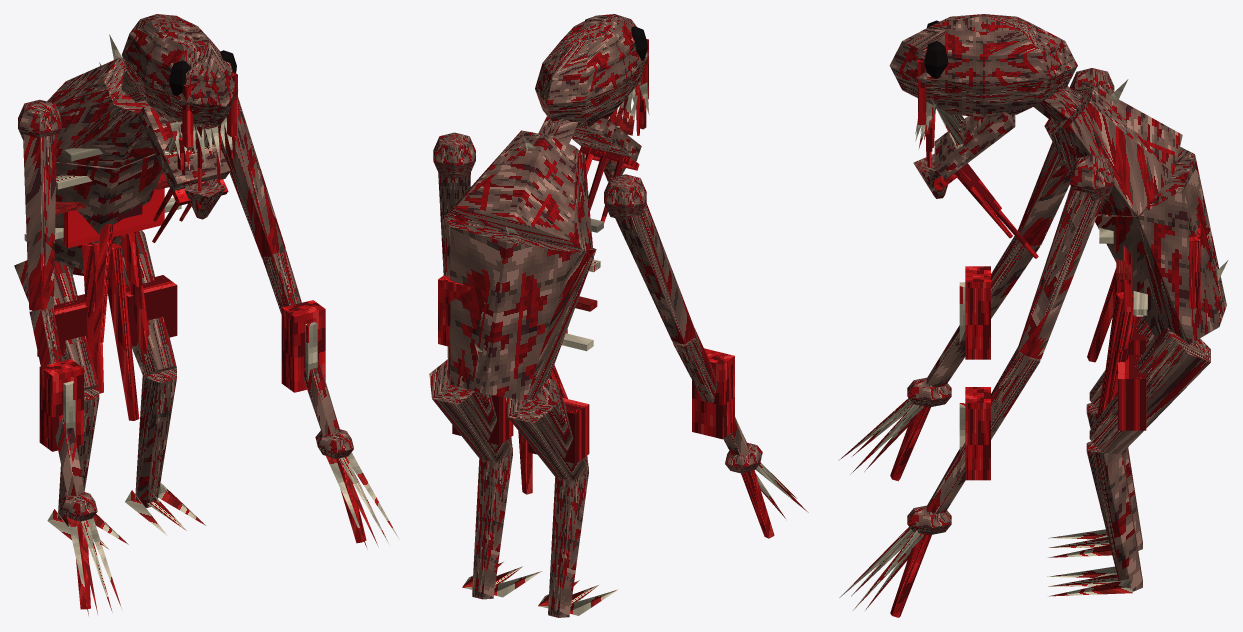
File: criatura.glb
The picture shows the model from 3 angles, left to right: view 1: azimuth 30°, elevation 25°; view 2: azimuth 150°, elevation 25°; view 3: azimuth 270°, elevation 25°; orthographic projection. The views are drawn at different scales.
Visible parts, largest first — view 1: Torso, Craneo, Tripas, BrazoIzq, PantorrillaDer, BrazoDer, MandibulaMalla, HeridaBrazoDer, HeridaBrazoIzq, AntebrazoDer, AntebrazoIzq, MusloDer (+22 smaller); view 2: Torso, Craneo, BrazoIzq, MusloIzq, PantorrillaIzq, PantorrillaDer, MusloDer, BrazoDer, HeridaBrazoIzq, AntebrazoIzq, MandibulaMalla, HeridaMusloIzq (+12 smaller); view 3: Torso, Craneo, BrazoDer, MusloDer, PantorrillaDer, BrazoIzq, MandibulaMalla, AntebrazoDer, Tripas, AntebrazoIzq, HeridaBrazoIzq, HeridaBrazoDer (+18 smaller).
Part boxes in pixels (x1=…): Torso: x1=47, y1=58, x2=162, y2=275; Craneo: x1=122, y1=14, x2=238, y2=130; Tripas: x1=82, y1=224, x2=149, y2=420; BrazoIzq: x1=18, y1=99, x2=61, y2=310; PantorrillaDer: x1=135, y1=368, x2=176, y2=507; BrazoDer: x1=221, y1=97, x2=285, y2=257; MandibulaMalla: x1=138, y1=105, x2=230, y2=219; HeridaBrazoDer: x1=281, y1=300, x2=325, y2=392; HeridaBrazoIzq: x1=39, y1=359, x2=83, y2=451; AntebrazoDer: x1=262, y1=249, x2=339, y2=434; AntebrazoIzq: x1=29, y1=307, x2=84, y2=496; MusloDer: x1=122, y1=230, x2=176, y2=376; Torso: x1=444, y1=130, x2=596, y2=400; Craneo: x1=535, y1=14, x2=648, y2=127; BrazoIzq: x1=604, y1=174, x2=695, y2=344; MusloIzq: x1=506, y1=378, x2=588, y2=481; PantorrillaIzq: x1=548, y1=467, x2=588, y2=617; PantorrillaDer: x1=472, y1=448, x2=512, y2=599; MusloDer: x1=429, y1=359, x2=512, y2=462; BrazoDer: x1=433, y1=132, x2=475, y2=275; HeridaBrazoIzq: x1=692, y1=348, x2=734, y2=439; AntebrazoIzq: x1=673, y1=328, x2=748, y2=455; MandibulaMalla: x1=571, y1=118, x2=641, y2=181; HeridaMusloIzq: x1=528, y1=397, x2=589, y2=463; Torso: x1=1044, y1=86, x2=1226, y2=344; Craneo: x1=889, y1=14, x2=1077, y2=117; BrazoDer: x1=1017, y1=154, x2=1114, y2=359; MusloDer: x1=1089, y1=327, x2=1210, y2=454; PantorrillaDer: x1=1086, y1=441, x2=1142, y2=591; BrazoIzq: x1=1017, y1=68, x2=1114, y2=246; MandibulaMalla: x1=913, y1=111, x2=1015, y2=198; AntebrazoDer: x1=926, y1=346, x2=1040, y2=514; Tripas: x1=1087, y1=268, x2=1135, y2=417; AntebrazoIzq: x1=926, y1=236, x2=1040, y2=387; HeridaBrazoIzq: x1=965, y1=266, x2=990, y2=359; HeridaBrazoDer: x1=965, y1=387, x2=990, y2=480.
Bounding box in the file's own units: 1.29 × 2.14 × 1.37.
Materials: 1 (1 with a texture image).
